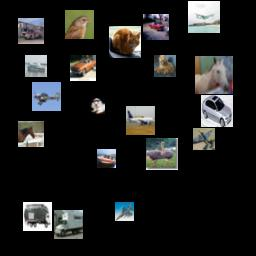airplane: (188, 1, 220, 33), (126, 106, 155, 135), (32, 82, 61, 111), (193, 128, 215, 150), (115, 202, 134, 221)
automobile: (201, 95, 233, 127), (70, 55, 96, 81), (143, 14, 169, 40)
bird: (146, 138, 178, 170), (65, 10, 94, 39)
cat: (109, 26, 141, 58)
dog: (154, 55, 176, 77), (89, 98, 105, 114)
ship: (25, 55, 47, 77), (97, 149, 116, 168)
truck: (54, 210, 83, 239), (23, 202, 52, 231), (18, 18, 44, 44)
